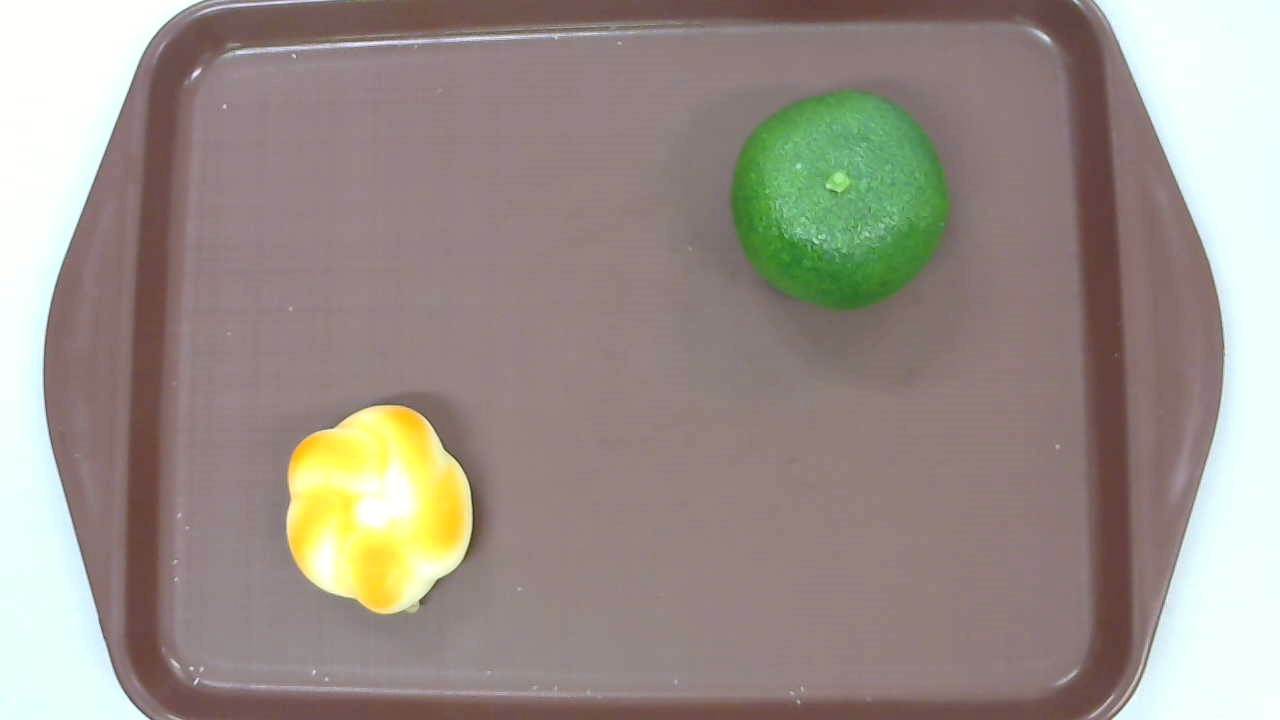green orange: (728, 90, 951, 311)
twist bread: (285, 404, 473, 614)
